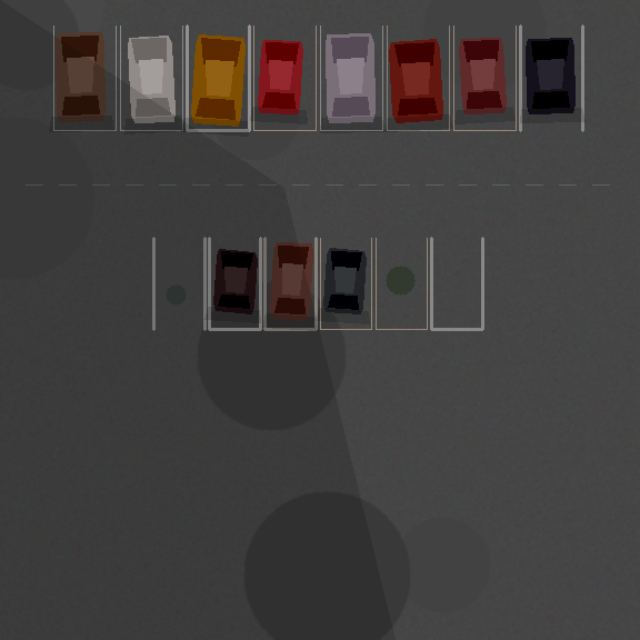space-empty: (153, 238, 204, 329), (376, 238, 427, 329), (431, 238, 482, 329)
space-occupied: (53, 26, 116, 130), (253, 26, 316, 130), (453, 26, 516, 130), (120, 26, 182, 130), (187, 26, 249, 130), (320, 26, 382, 130), (387, 26, 449, 130), (520, 26, 582, 130), (264, 238, 316, 329), (209, 238, 260, 329), (320, 238, 371, 329)
